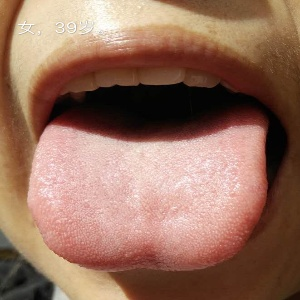st: (24, 126, 274, 272)
